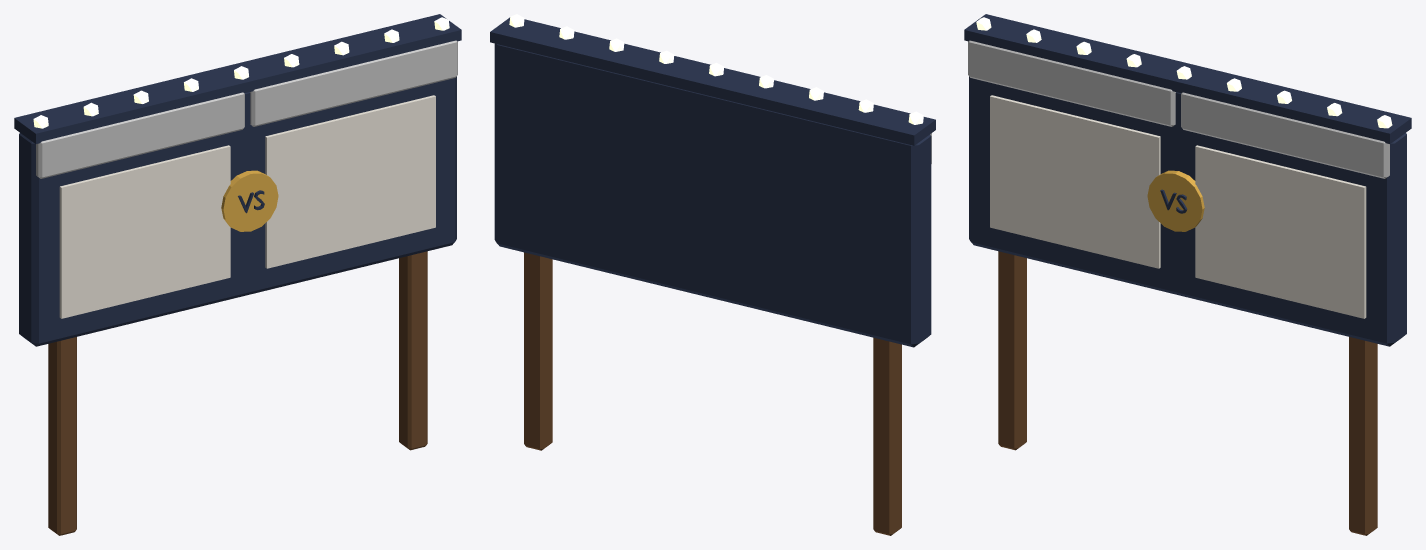
Rendered from ev_scoreboard_v01.glb.
The picture shows the model from 3 angles, left to right: view 1: azimuth 30°, elevation 25°; view 2: azimuth 150°, elevation 25°; view 3: azimuth 330°, elevation 25°; orthographic projection.
Visible parts, largest first — view 1: scoreboard, panel_L, panel_R; view 2: scoreboard; view 3: scoreboard, panel_R, panel_L.
Part boxes in pixels (x1,y1,x2,y2): scoreboard: [14, 14, 461, 535]; panel_L: [59, 145, 230, 318]; panel_R: [265, 95, 435, 268]; scoreboard: [490, 14, 935, 535]; scoreboard: [964, 14, 1411, 535]; panel_R: [1195, 145, 1366, 318]; panel_L: [990, 95, 1160, 268].
Bounding box in the file's own units: 3.4 × 3.24 × 0.35.
